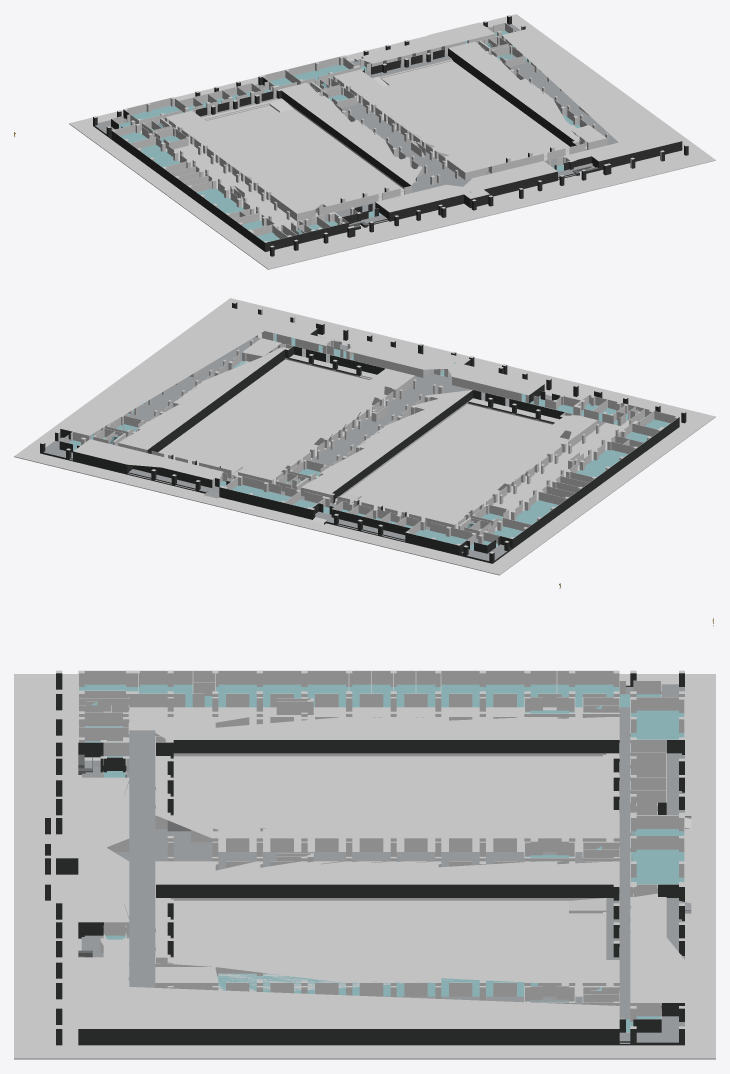
Rendered from lab1pre.fbx.
3 views of the same model, one above another, from view 1: azimuth 30°, elevation 25°; view 2: azimuth 150°, elevation 25°; view 3: azimuth 270°, elevation 25° (orthographic). The views are drawn at different scales.
Parts seen in each view (by area): view 1: Model; view 2: Model; view 3: Model.
Part boxes in pixels (box(x1,y1,x2,y2)): Model: box(69, 14, 715, 269); Model: box(14, 298, 715, 575); Model: box(14, 670, 715, 1059).
Bounding box in the file's own units: 165113 × 3100 × 113330.
